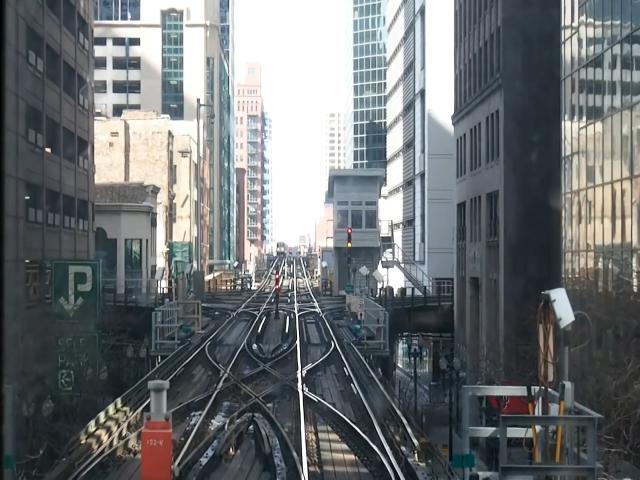signal light: (346, 226, 354, 268), (276, 271, 282, 306)
